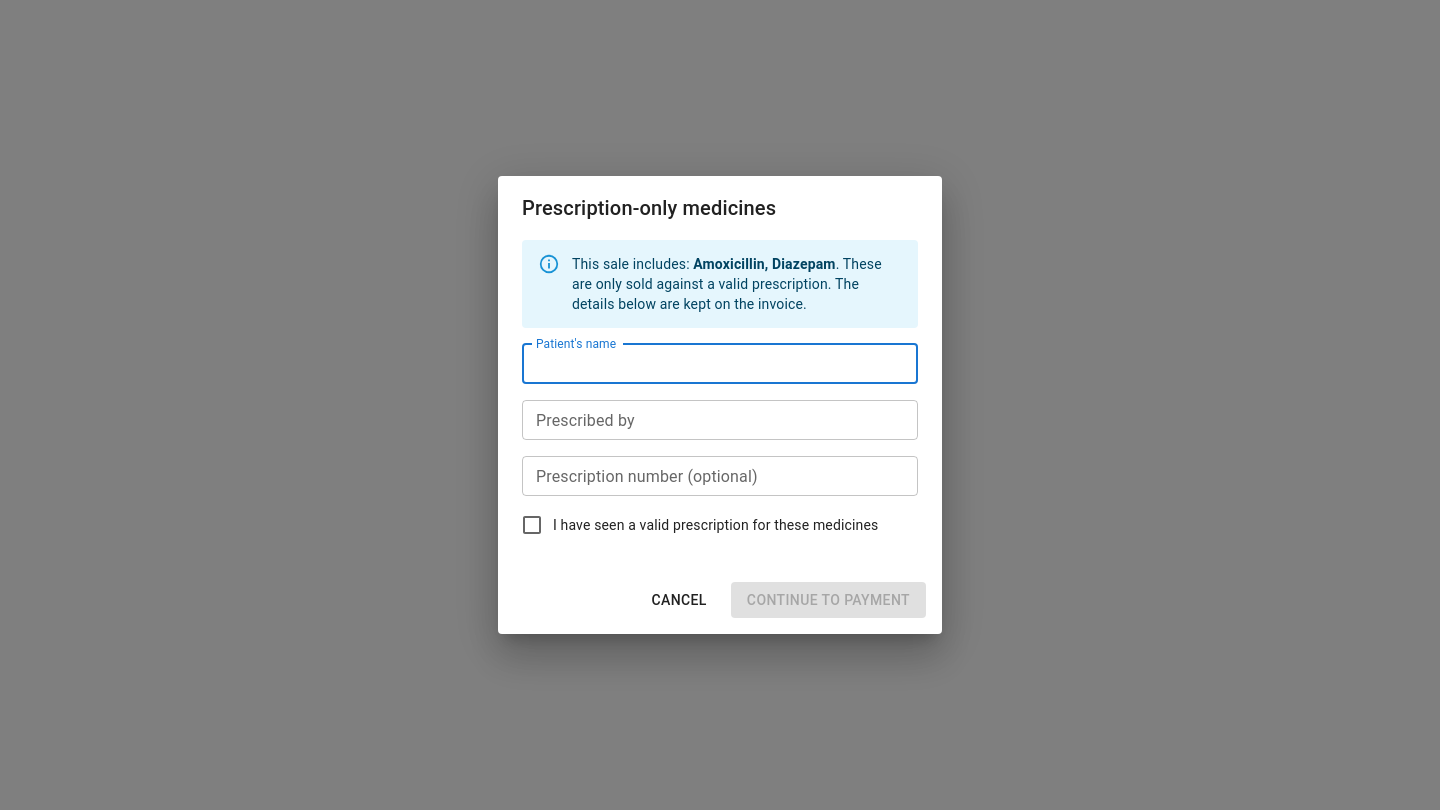
Scenario: PrescriptionDialog › cannot continue until the patient, the prescriber and the confirmation are given
The image size is (1440, 810).
Expected: the button "Continue to payment" is disabled, [731,582,926,618]
Type "Jane Wanjiru" into the field labelled "Patient's name" at (720, 364), box [522,344,918,384]
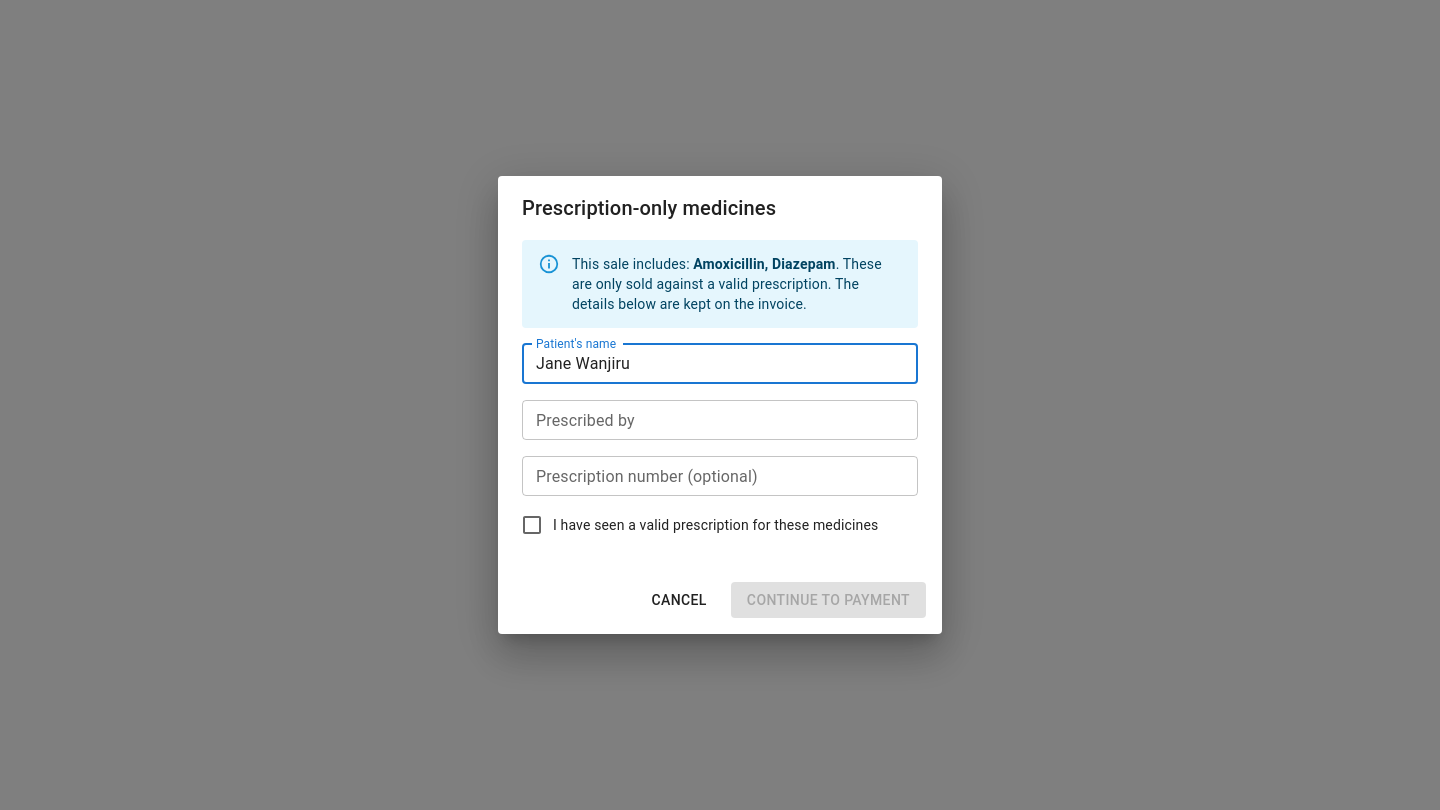
Expected: the button "Continue to payment" is disabled, [731,582,926,618]
Type "Dr Otieno" into the field labelled "Prescribed by" at (720, 420), box [522,400,918,440]
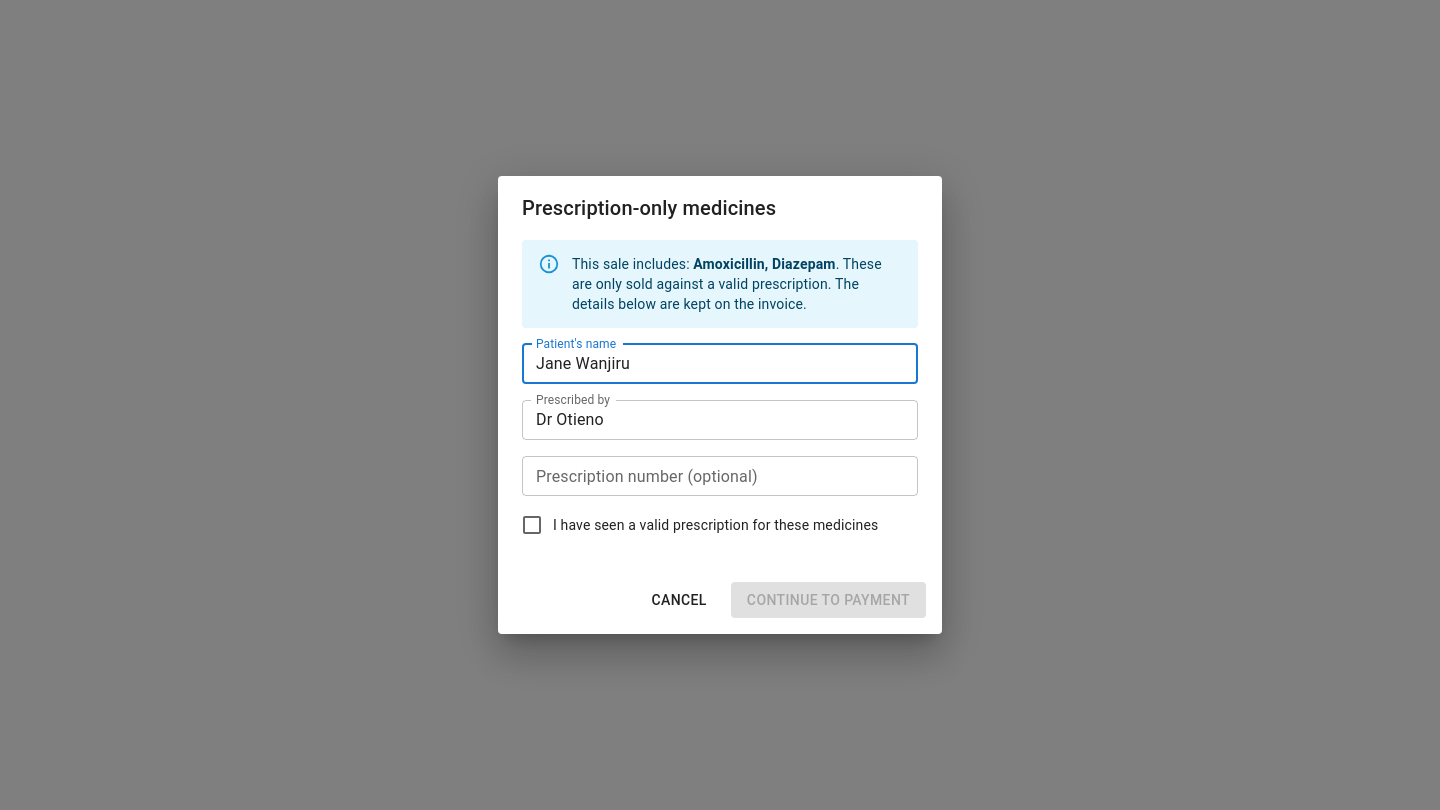
Expected: the button "Continue to payment" is disabled, [731,582,926,618]
Click the checkbox labelled "I have seen a valid prescription for these medicines" at (699, 525), box [520,513,878,537]
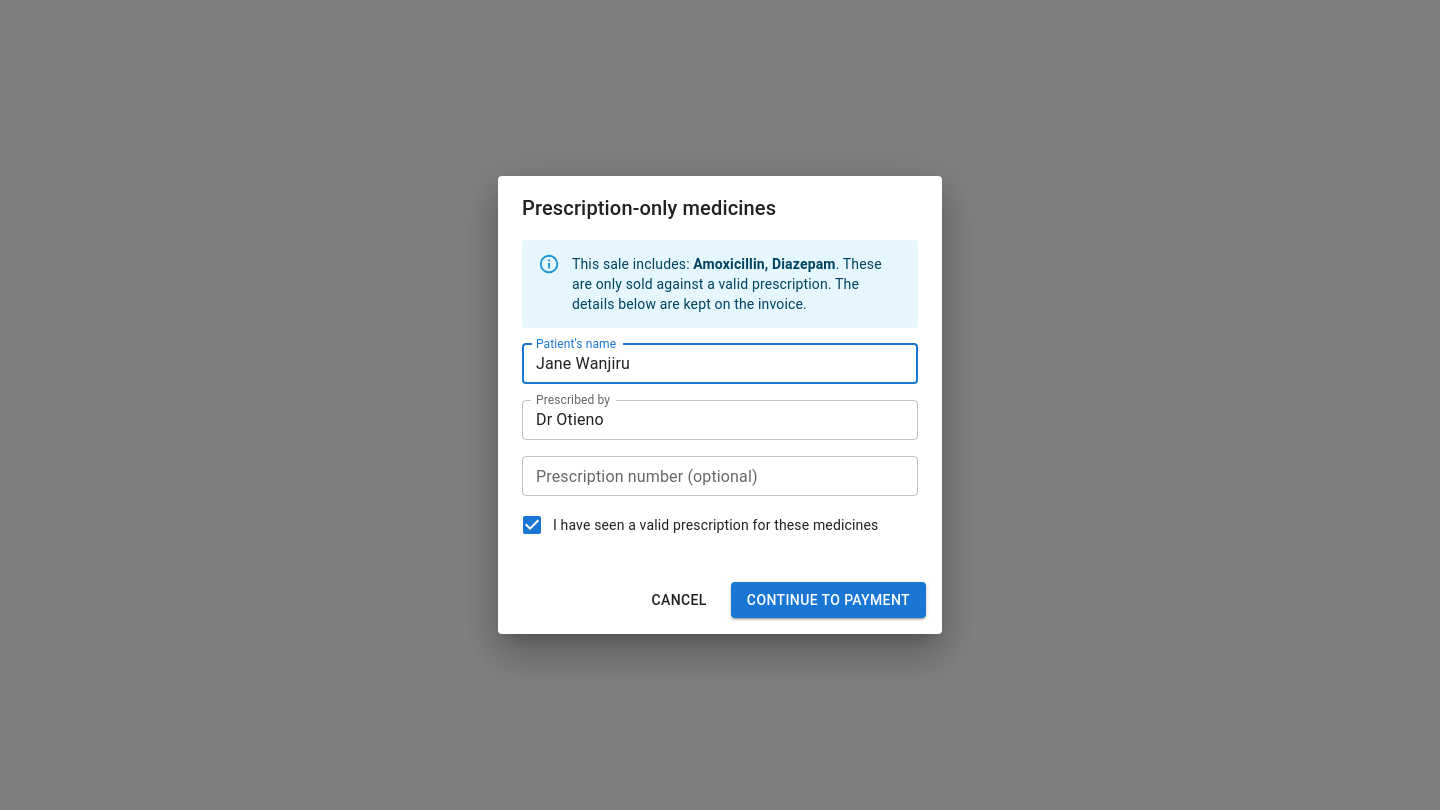
Expected: the button "Continue to payment" is enabled, [731,582,926,618]
